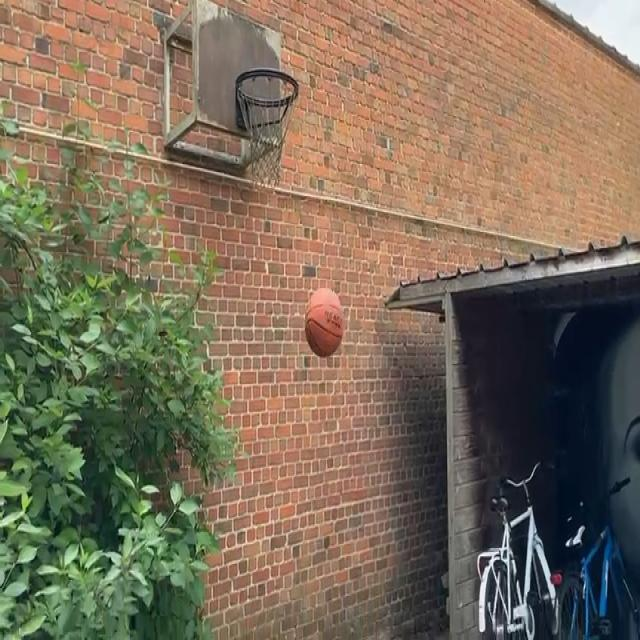Basketball: (305, 288, 345, 356)
